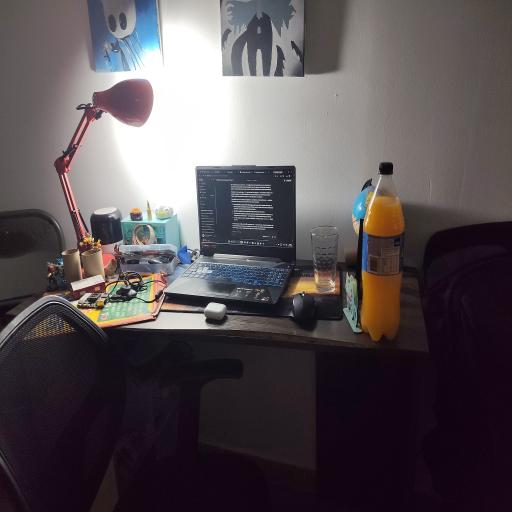Jugo del valle: (361, 163, 404, 340)
